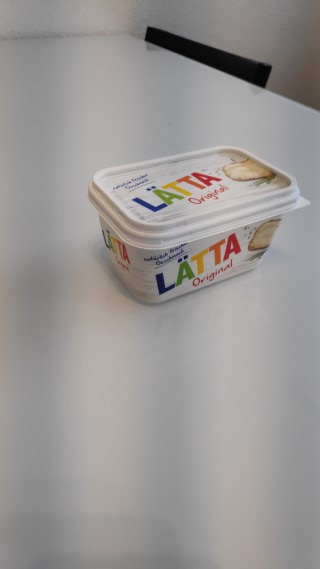laetta: (86, 145, 309, 303)
